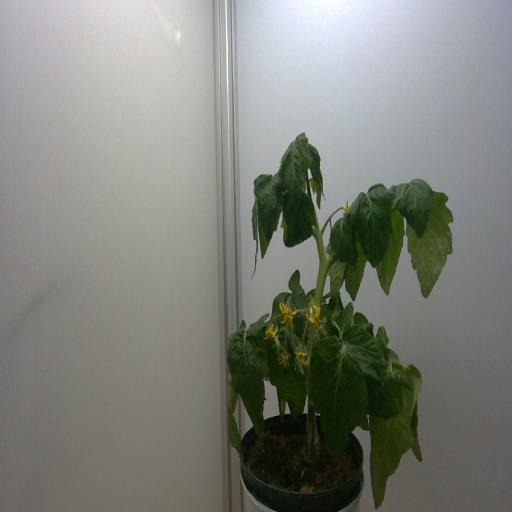Tomato-Leaves-Cupboard-: (368, 354, 427, 506), (307, 338, 370, 463), (264, 279, 309, 432), (405, 188, 454, 300), (225, 314, 265, 446), (352, 182, 395, 267), (279, 122, 314, 224), (376, 204, 406, 300), (390, 178, 436, 240), (365, 356, 405, 426), (254, 163, 284, 241), (282, 188, 315, 252), (223, 368, 244, 462), (328, 204, 358, 267), (345, 230, 366, 307), (245, 194, 259, 286), (326, 246, 348, 300), (257, 206, 273, 266), (285, 266, 307, 306), (272, 370, 288, 424), (336, 297, 357, 337), (310, 174, 327, 208)
